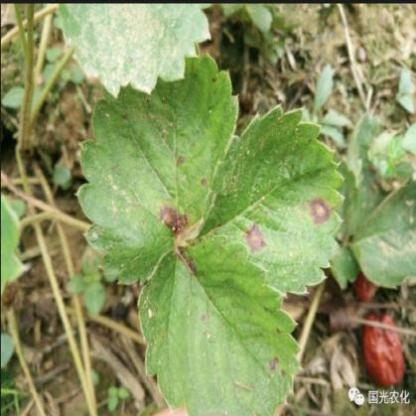Strawberry_Leaf_Spot: (73, 50, 240, 288), (184, 102, 345, 298), (137, 236, 305, 415)
